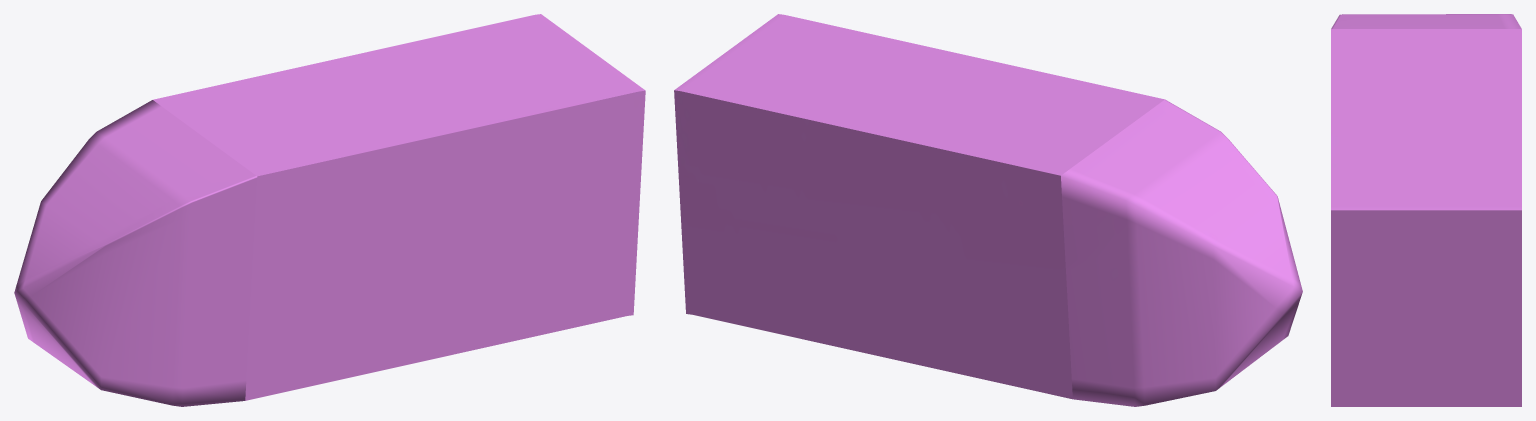
Rendered from bullet fbx.fbx.
3 views of the same model, side by side, from view 1: azimuth 30°, elevation 25°; view 2: azimuth 150°, elevation 25°; view 3: azimuth 270°, elevation 25° (orthographic). The views are drawn at different scales.
Parts seen in each view (by area): view 1: pCylinder1; view 2: pCylinder1; view 3: pCylinder1.
Boxes of the visible parts, box(x1,y1,x2,y2) form: pCylinder1: box(14, 14, 645, 406); pCylinder1: box(674, 14, 1302, 406); pCylinder1: box(1331, 14, 1521, 406).
Bounding box in the file's own units: 1.43 × 0.5435 × 0.4471.
Materials: 1 (1 with a texture image).
